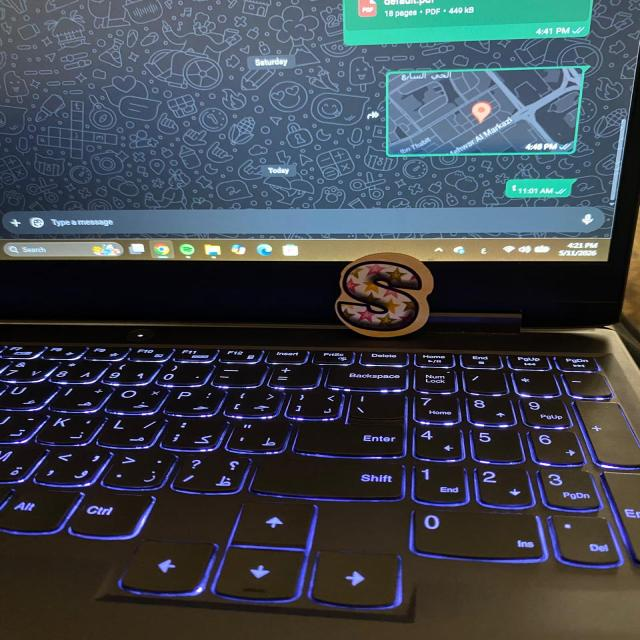S: (335, 254, 433, 338)
